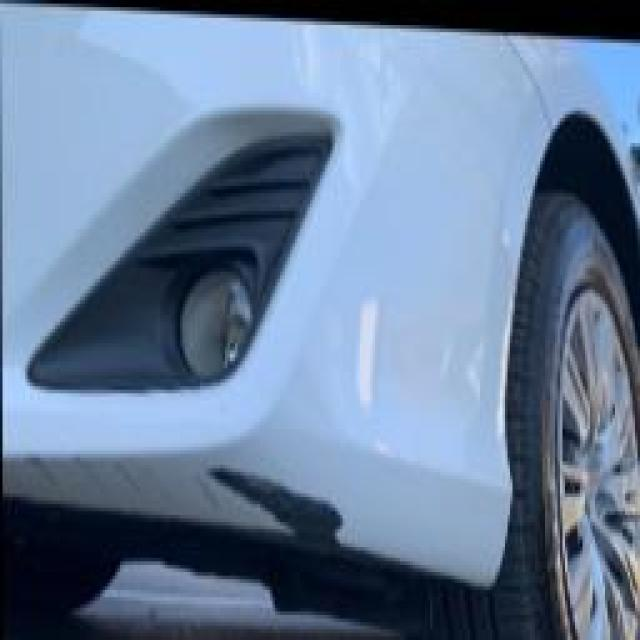Bumper: (22, 408, 371, 554)
